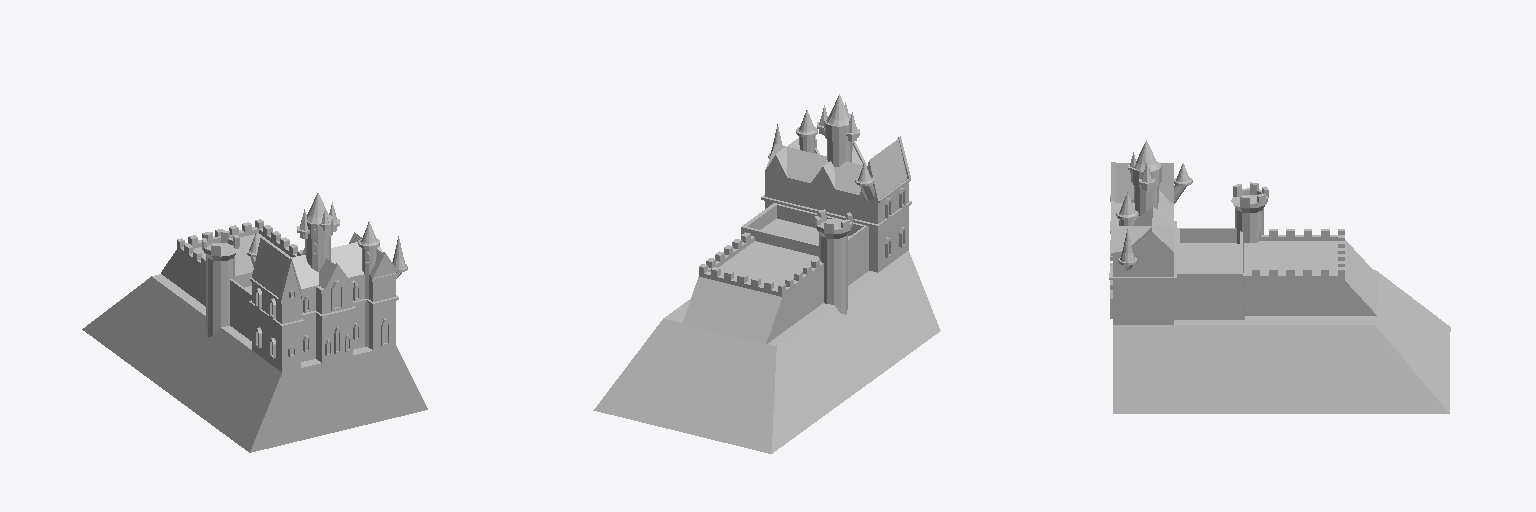
Rendered from castle.obj.
3 renders of one model, left to right at view 1: azimuth 30°, elevation 25°; view 2: azimuth 150°, elevation 25°; view 3: azimuth 270°, elevation 25°, orthographic.
Parts seen in each view (by area): view 1: polySurface1; view 2: polySurface1; view 3: polySurface1.
Boxes of the visible parts, x1=… form: polySurface1: x1=82, y1=193, x2=427, y2=452; polySurface1: x1=593, y1=94, x2=940, y2=453; polySurface1: x1=1109, y1=140, x2=1450, y2=413.
Bounding box in the file's own units: 51.83 × 63.14 × 85.44.